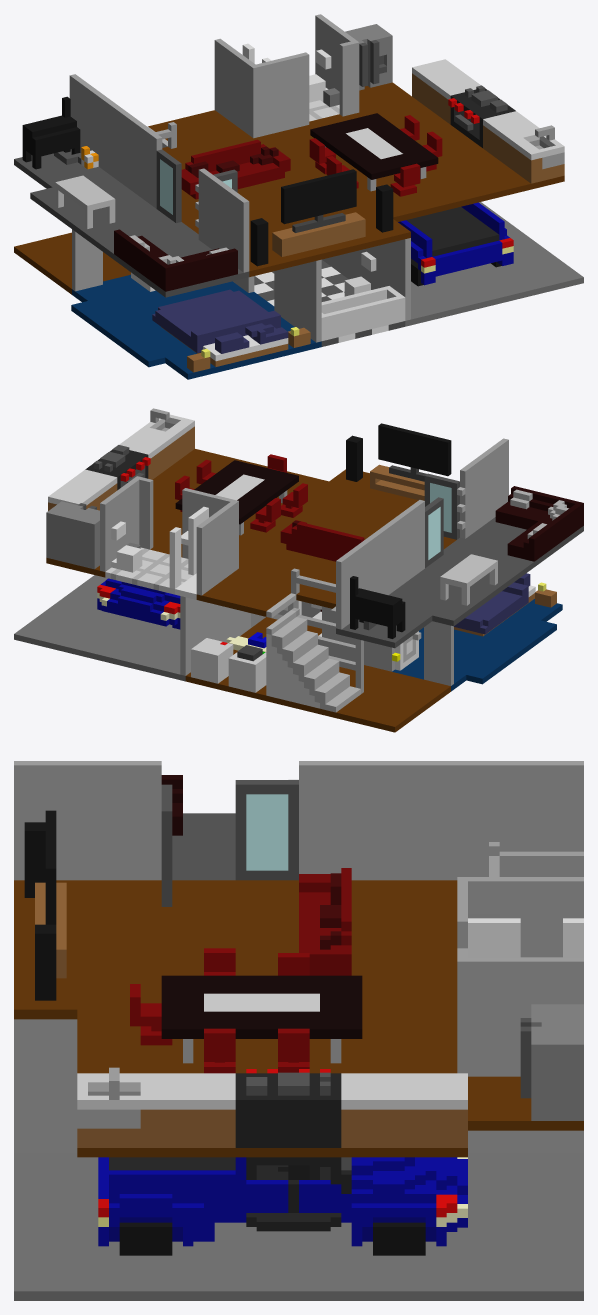
Rendered from interior.glb.
The picture shows the model from 3 angles, top to bottom: view 1: azimuth 30°, elevation 25°; view 2: azimuth 150°, elevation 25°; view 3: azimuth 270°, elevation 25°; orthographic projection. The views are drawn at different scales.
Parts seen in each view (by area): view 1: Untitled; view 2: Untitled; view 3: Untitled.
Boxes of the visible parts, x1,y1,x2,y2 form: Untitled: (14, 14, 583, 379); Untitled: (14, 408, 583, 732); Untitled: (14, 761, 583, 1300).
Size of the model in its own units: 7.5 by 2.8 by 5.4.
1 material, 1 textured.
